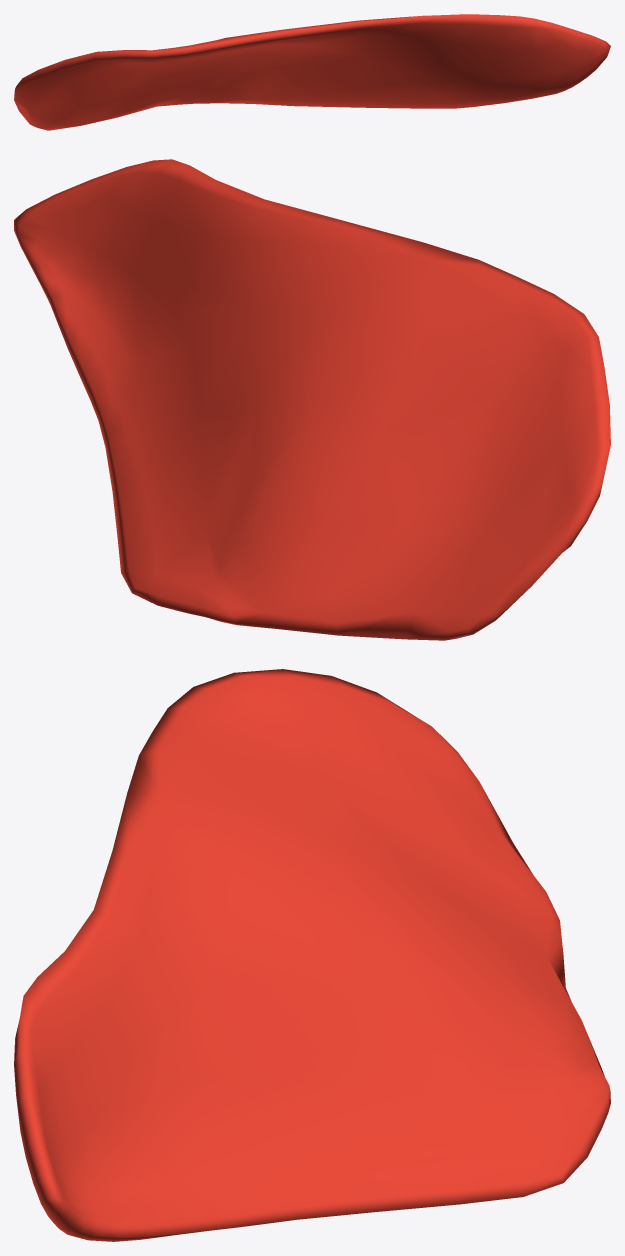
File: Flexor_digitorum_brevis_calcaneal_tuberosity_right.glb
The picture shows the model from 3 angles, top to bottom: view 1: azimuth 30°, elevation 25°; view 2: azimuth 150°, elevation 25°; view 3: azimuth 270°, elevation 25°; orthographic projection. The views are drawn at different scales.
Visible parts, largest first — view 1: Flexor_digitorum_brevis_on_medial_process_of_calcaneal_tuber; view 2: Flexor_digitorum_brevis_on_medial_process_of_calcaneal_tuber; view 3: Flexor_digitorum_brevis_on_medial_process_of_calcaneal_tuber.
Part boxes in pixels (left/top/right/bottom): Flexor_digitorum_brevis_on_medial_process_of_calcaneal_tuber: left=14, top=14, right=610, bottom=130; Flexor_digitorum_brevis_on_medial_process_of_calcaneal_tuber: left=14, top=159, right=610, bottom=640; Flexor_digitorum_brevis_on_medial_process_of_calcaneal_tuber: left=14, top=669, right=610, bottom=1241.
Size of the model in its own units: 0.0209 by 0.00696 by 0.0117.
